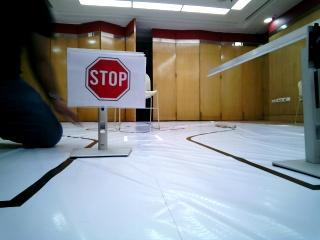stop: (76, 53, 140, 103)
